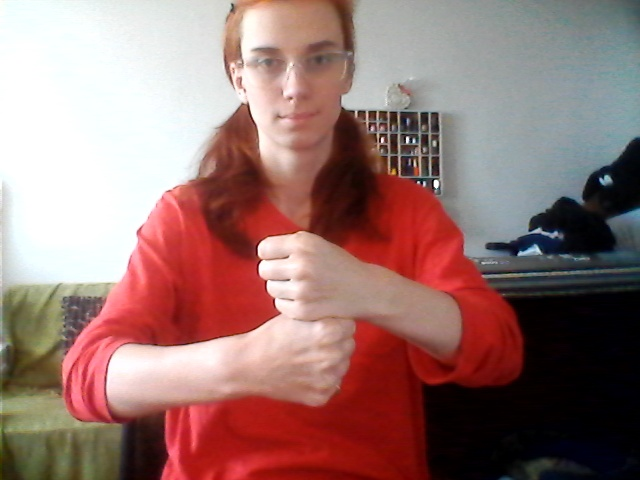g: (249, 228, 369, 415)
